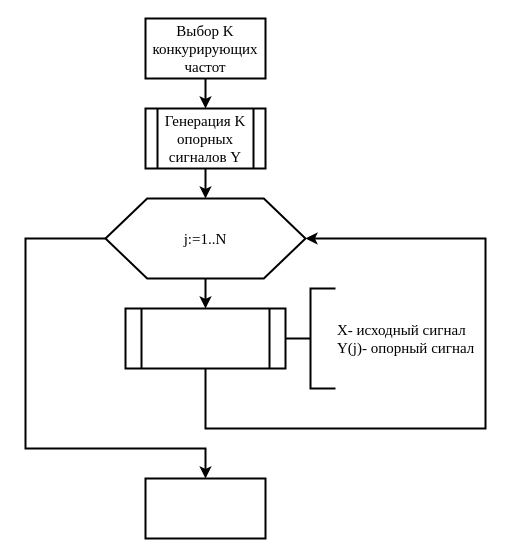
Image size: 511x556. Some labels were removed from this diagram. Here are the shapes that lost their labels. From the top down, the centre of each, then its label:
At (x=205, y=338): "S(j):=MSI(X, Y(j)))".
At (x=205, y=508): "F=max(S)".
